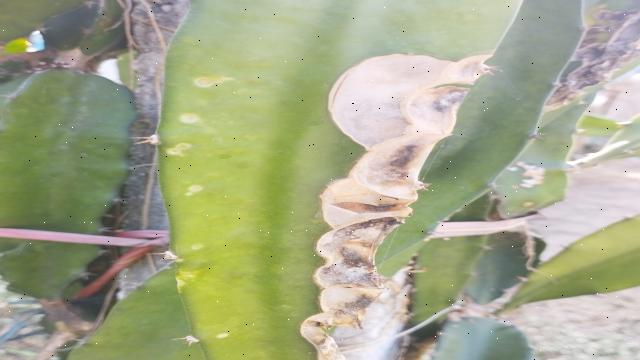stemcanker: (170, 174, 226, 204), (186, 72, 240, 99), (163, 140, 196, 160), (178, 108, 202, 130), (212, 328, 234, 344)
